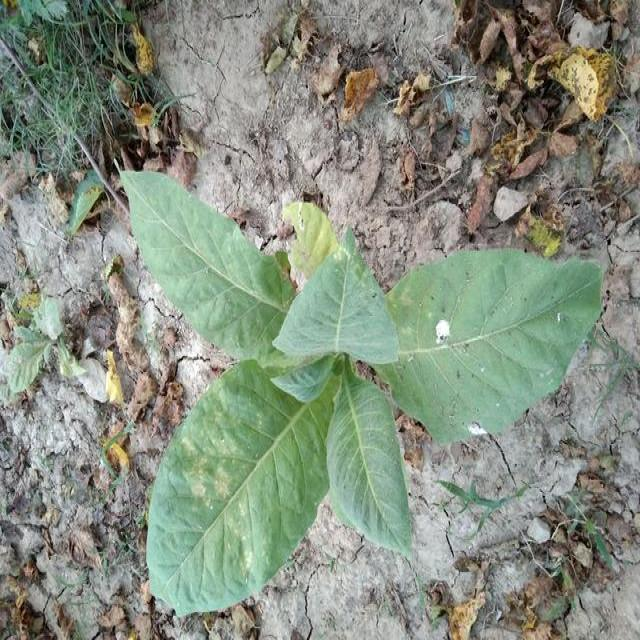crop: (116, 157, 603, 618)
